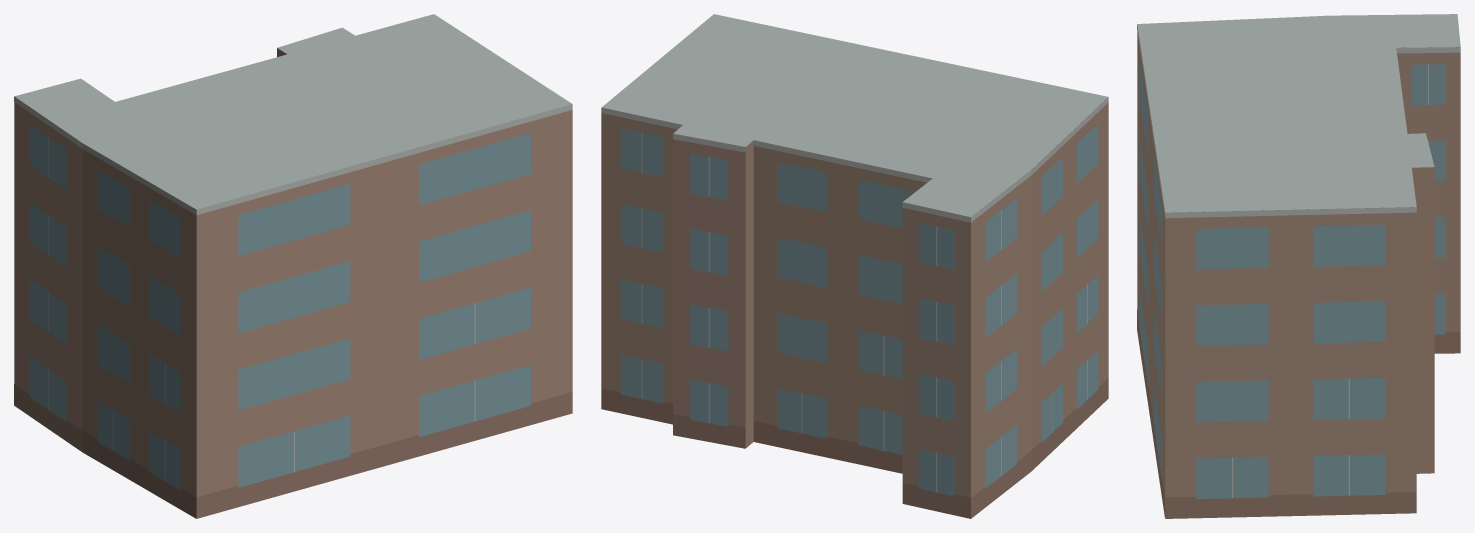
The model's file is survey-upis-32735036.glb.
3 views of the same model, side by side, from view 1: azimuth 30°, elevation 25°; view 2: azimuth 150°, elevation 25°; view 3: azimuth 270°, elevation 25° (orthographic). The views are drawn at different scales.
Visible parts, largest first — view 1: survey-upis-32735036.tmp; view 2: survey-upis-32735036.tmp; view 3: survey-upis-32735036.tmp.
Boxes of the visible parts, x1,y1,x2,y2 form: survey-upis-32735036.tmp: [14, 14, 572, 518]; survey-upis-32735036.tmp: [601, 14, 1108, 518]; survey-upis-32735036.tmp: [1137, 14, 1460, 518].
Bounding box in the file's own units: 18.51 × 13.3 × 12.74.
